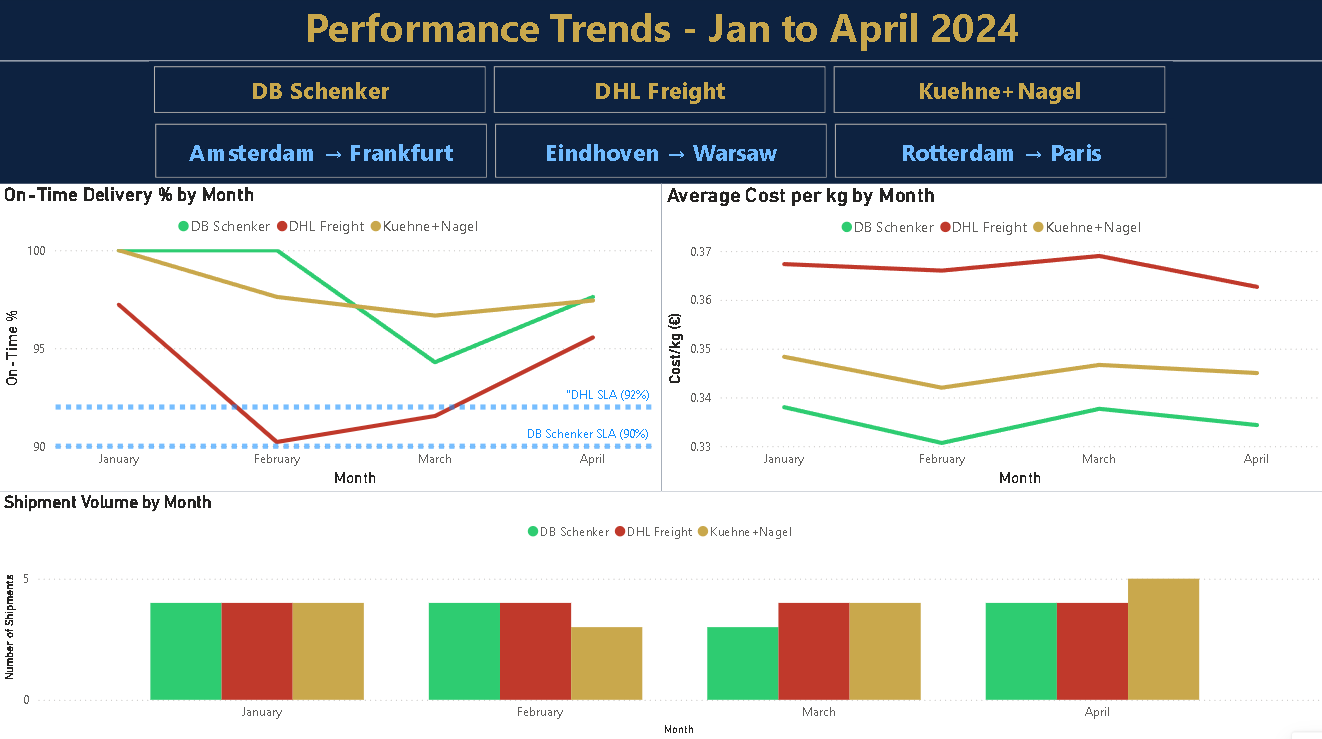

What the dashboard file says about the page in this screenshot:
{"tool":"powerbi","page":{"name":"Trend Analysis","canvas":[1280,720],"ordinal":2},"visuals":[{"type":"textbox","box":[0,0,1280.2,63.8],"z":0},{"type":"textbox","box":[1074.9,692.5,205.1,27.7],"z":1000},{"type":"advancedSlicerVisual","fields":{"Values":["monthly_trend.provider_name"]},"box":[144.8,63.8,988.1,55.2],"z":2000},{"type":"advancedSlicerVisual","fields":{"Values":["monthly_trend.lane"]},"box":[146.1,119.1,988.1,62.6],"z":3000},{"type":"lineChart","title":"On-Time Delivery % by Month","fields":{"Category":["monthly_trend.month_year.Variation.Date Hierarchy.Month"],"Y":["Avg(monthly_trend.on_time_pct)"],"Series":["monthly_trend.provider_name"]},"box":[0,181.7,639.5,297],"z":4000},{"type":"lineChart","title":"Average Cost per kg by Month","fields":{"Series":["monthly_trend.provider_name"],"Y":["Avg(monthly_trend.avg_cost_per_kg)"],"Category":["monthly_trend.month_year.Variation.Date Hierarchy.Month"]},"box":[639.5,181.7,640.7,297],"z":5000},{"type":"clusteredColumnChart","title":"Shipment Volume by Month","fields":{"Category":["shipment_detail.Month"],"Y":["Count(shipment_detail.shipment_id)"],"Series":["shipment_detail.provider_name"]},"box":[0,479,1280,241.3],"z":6000}]}

Visuals, with their boxes in screenshot pixels (x1, y1, x2, y2), scaled from the page's 1280x720 canvas onto the 1322x739 screenshot:
textbox: <box>0,0,1321,65</box>
textbox: <box>1110,711,1321,738</box>
advancedSlicerVisual - monthly_trend.provider_name: <box>150,65,1170,122</box>
advancedSlicerVisual - monthly_trend.lane: <box>151,122,1171,186</box>
"On-Time Delivery % by Month" lineChart: <box>0,186,660,491</box>
"Average Cost per kg by Month" lineChart: <box>660,186,1321,491</box>
"Shipment Volume by Month" clusteredColumnChart: <box>0,492,1321,738</box>
